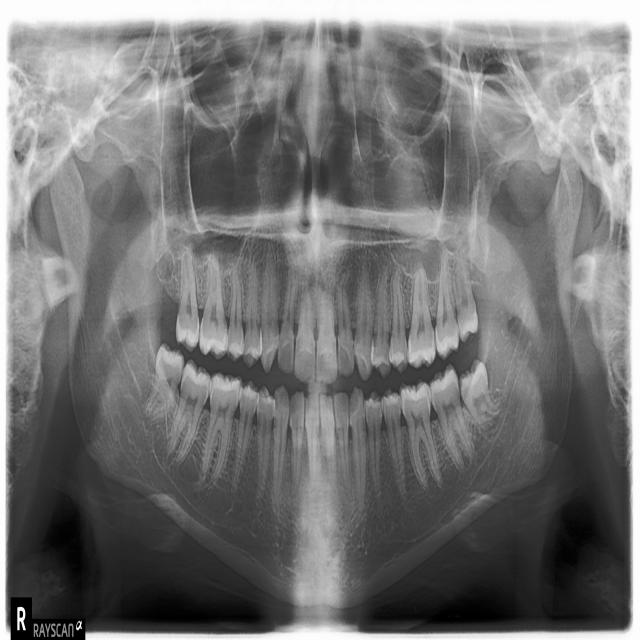mandibula: (48, 143, 584, 608)
